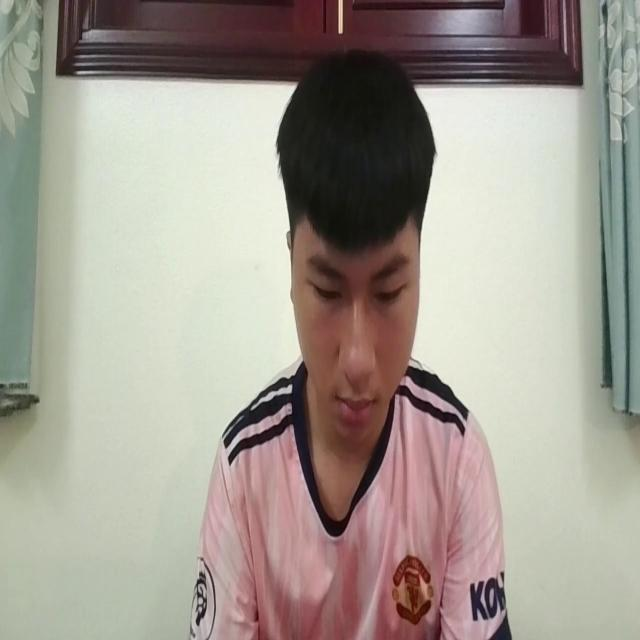student: (189, 46, 503, 640)
